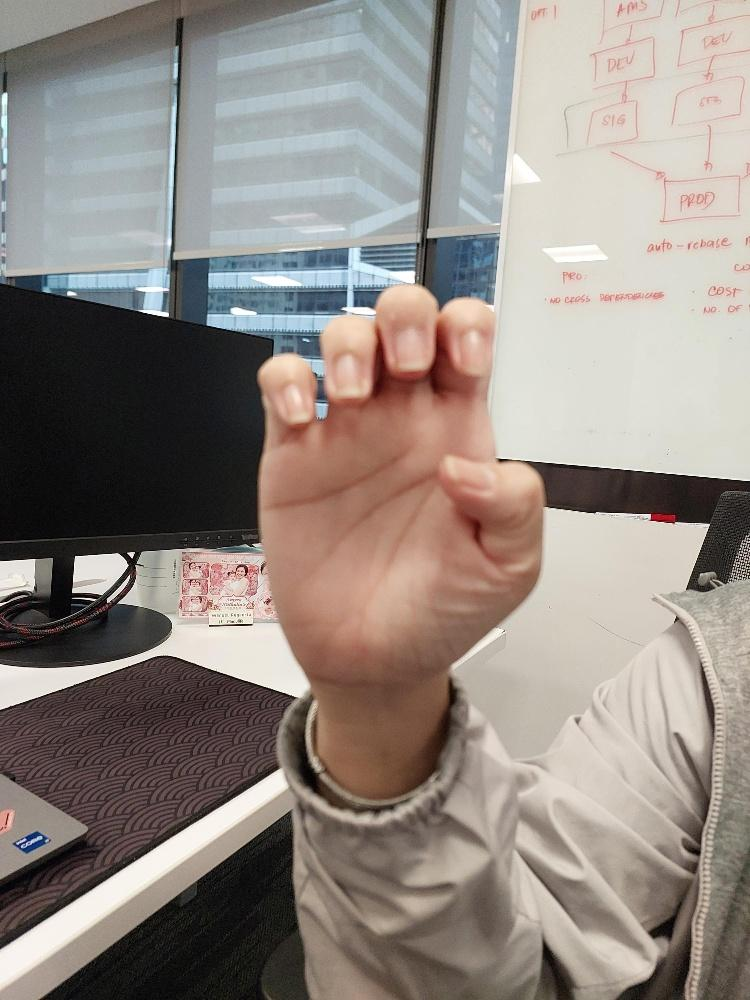e: (260, 281, 547, 682)
